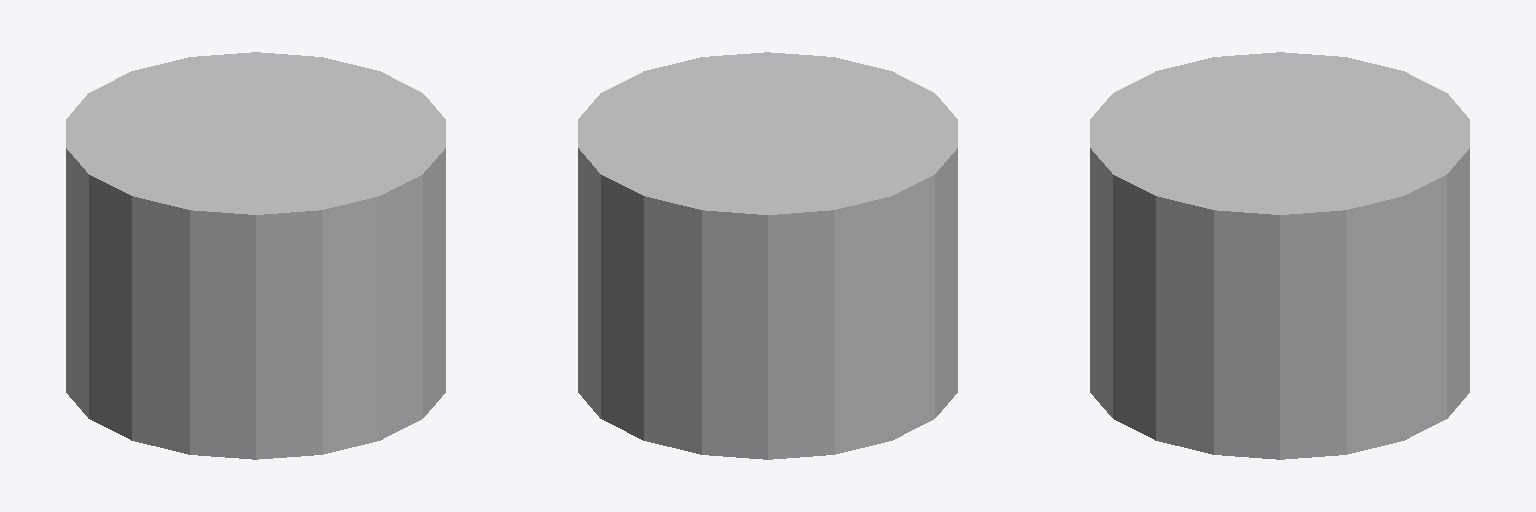
The model's file is cylinder_mac_fix.obj.
3 views of the same model, side by side, from view 1: azimuth 30°, elevation 25°; view 2: azimuth 150°, elevation 25°; view 3: azimuth 270°, elevation 25° (orthographic).
Visible parts, largest first — view 1: default; view 2: default; view 3: default.
Boxes of the visible parts, x1,y1,x2,y2 form: default: [66, 52, 445, 459]; default: [578, 52, 957, 459]; default: [1090, 52, 1469, 459].
Size of the model in its own units: 0.1 by 0.07 by 0.0985.